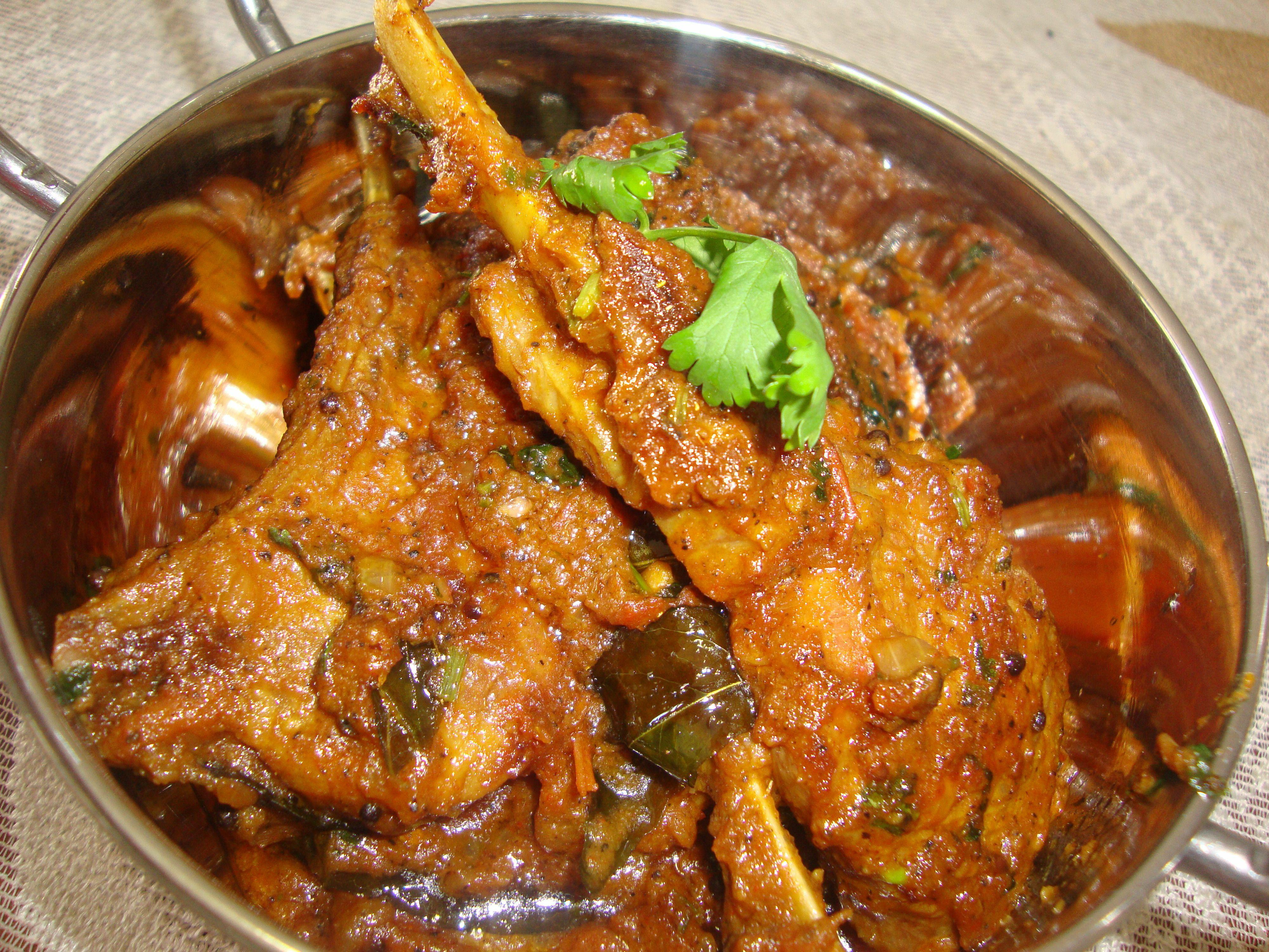MuttonCurry: (56, 1, 1086, 952)
